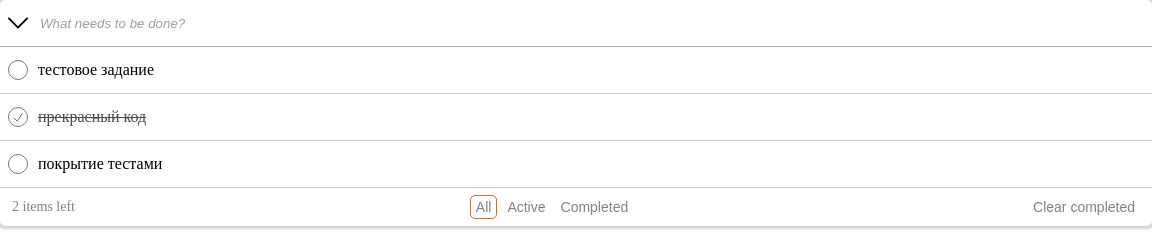
Test: смена фильтров › Изначально отображены все 3 задания. После нажатия на completed должно остаться 1 задание
Expected: the number of list items with test id "li_test" is 3, [0,47,1151,94]; [0,94,1151,141]; [0,141,1151,188]
Expected: the text "прекрасный код" is shown, [38,109,146,125]
What coordinates should you click on to do the following:
click the button with test id "completed_filter"
I would click on:
 (594, 207)
Its box is [556,196,633,218].
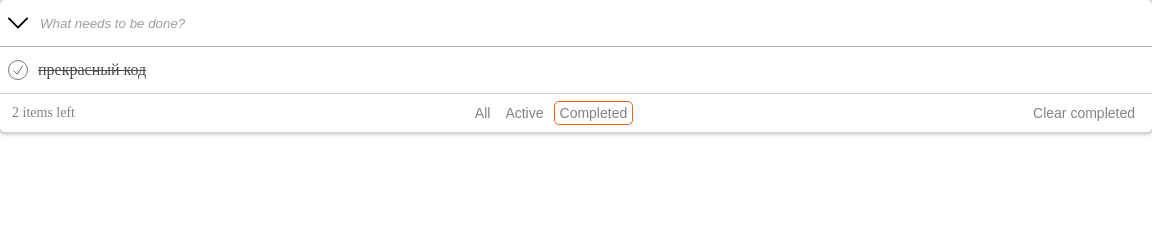
Expected: the text "прекрасный код" is shown, [38,62,146,78]
Expected: the number of list items with test id "li_test" is 1, [0,47,1151,94]
Expected: the text "покрытие тестами" is gone
